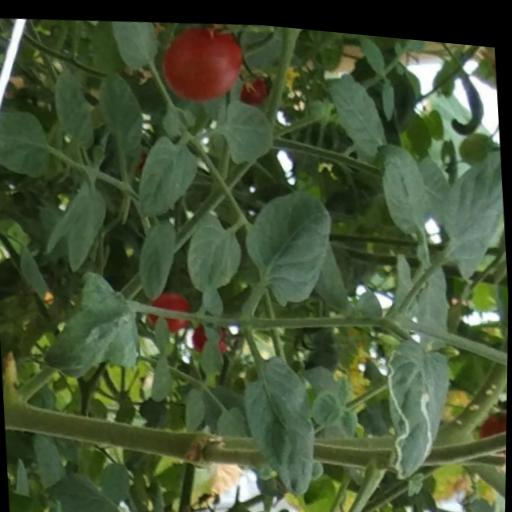Healthy: (243, 175, 342, 308), (239, 344, 322, 492), (435, 133, 509, 279), (39, 177, 112, 278), (131, 124, 206, 219), (324, 59, 395, 154), (373, 129, 437, 234), (132, 210, 185, 303), (0, 105, 59, 186), (48, 61, 101, 150), (219, 90, 282, 164), (41, 463, 131, 512)
Leaf_Miner: (381, 324, 461, 476)
